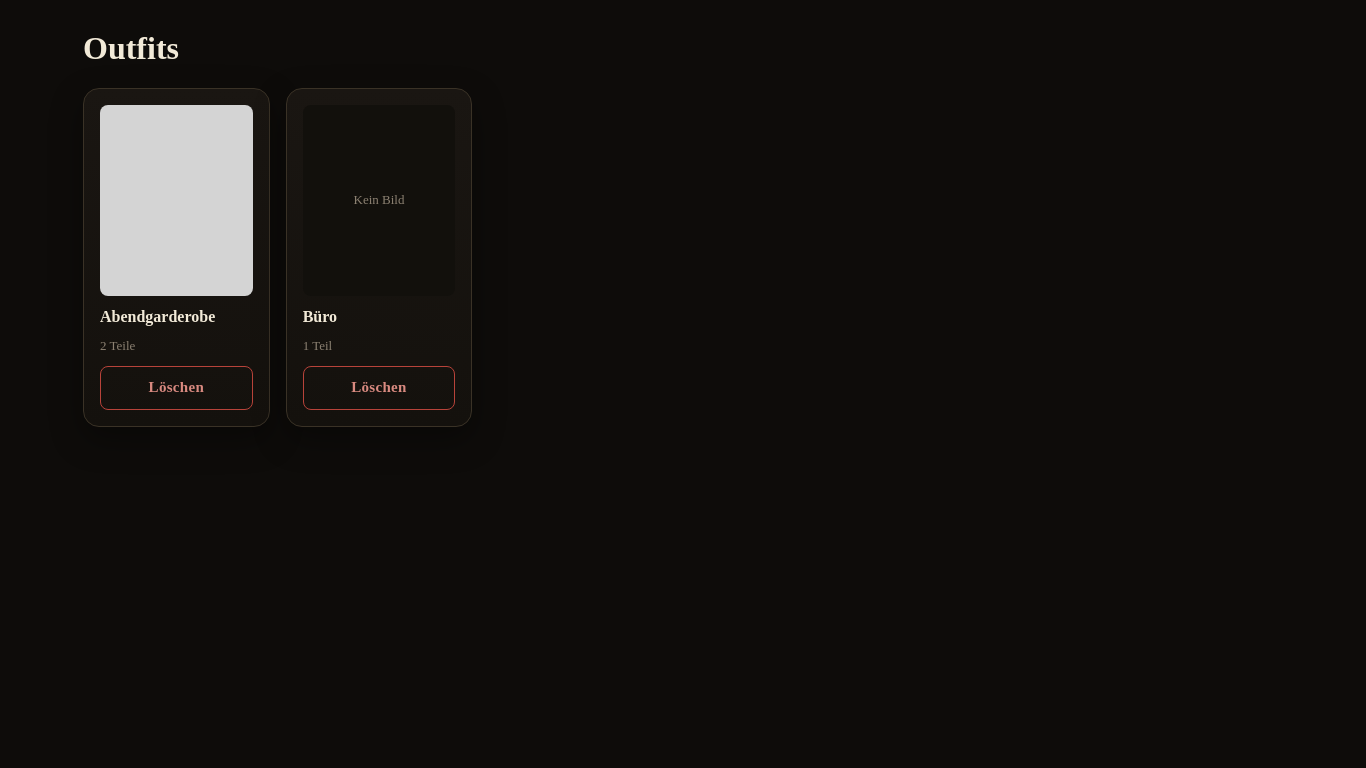
it: Outfits › löscht ein Outfit aus der Detailansicht
What coordinates should you click on to do the following:
click the button with aria-label "Abendgarderobe öffnen"
I would click on:
 (176, 229)
Its box is [100,105,253,354].
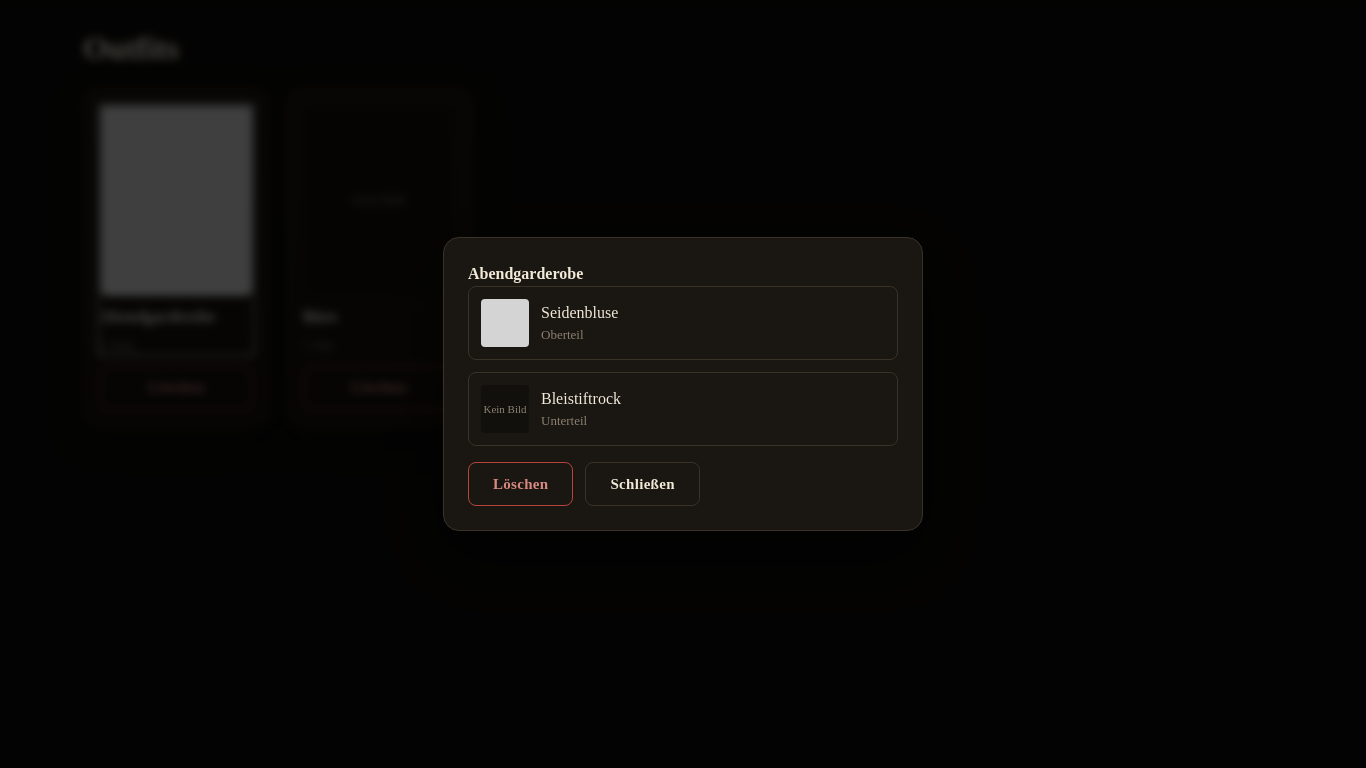
Expected: the dialog named "Abendgarderobe Details" is shown, [443,237,923,531]
What coordinates should you click on to do the following:
click the button with aria-label "Abendgarderobe löschen"
I would click on:
 (521, 484)
Its box is [468,462,574,506].
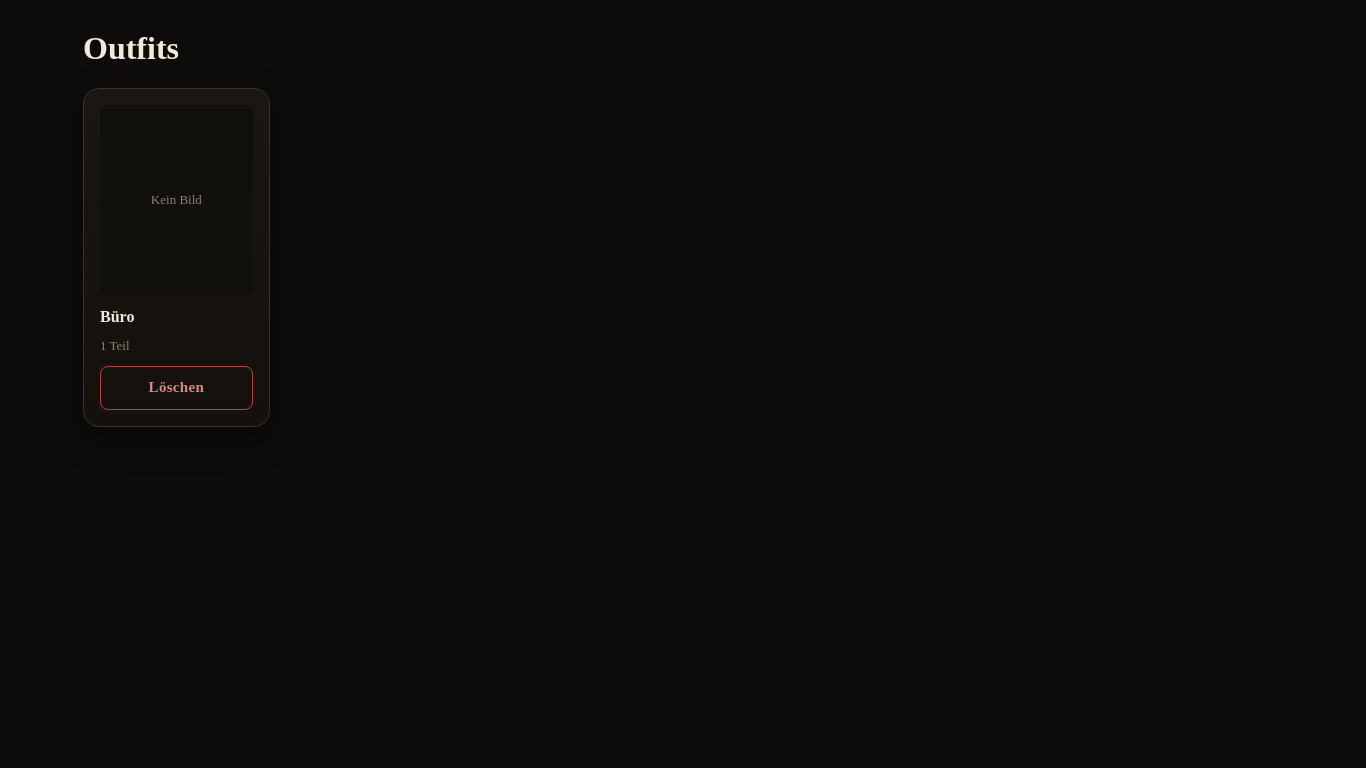
Expected: the button "Abendgarderobe" is gone
